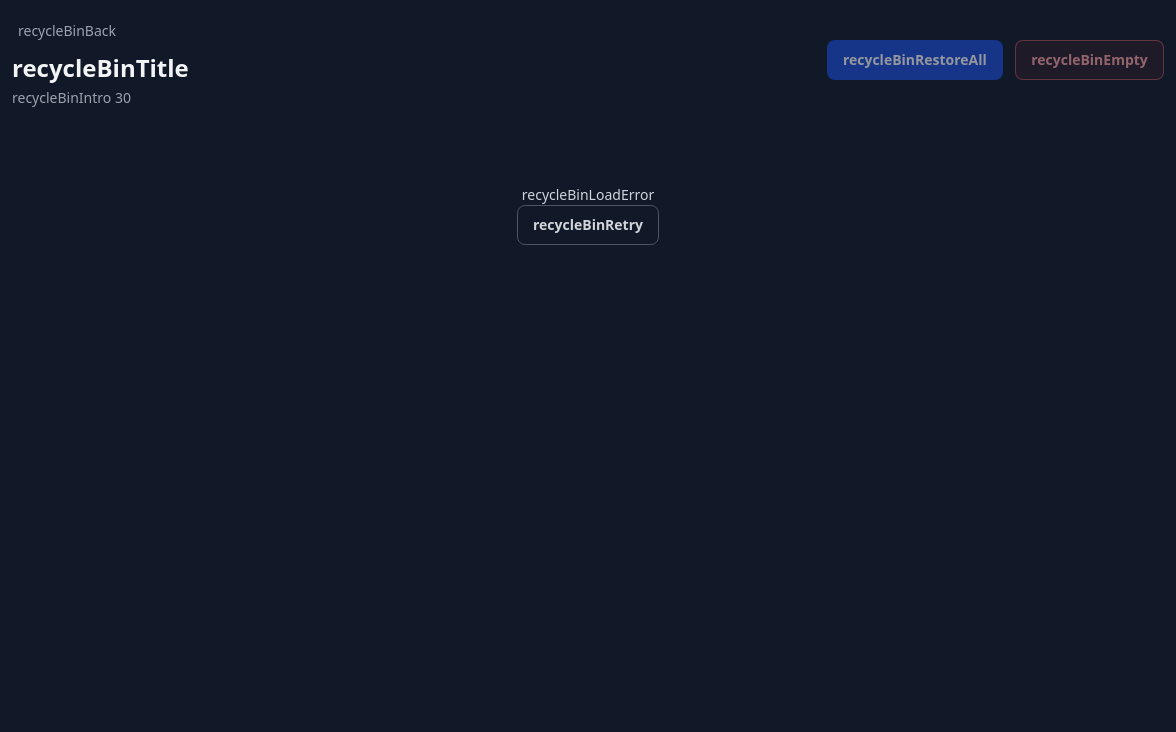
Scenario: RecycleBinPage › offers to try again when the bin cannot be loaded
Click the button "recycleBinRetry" at (588, 224), box x1=517 y1=204 x2=659 y2=244
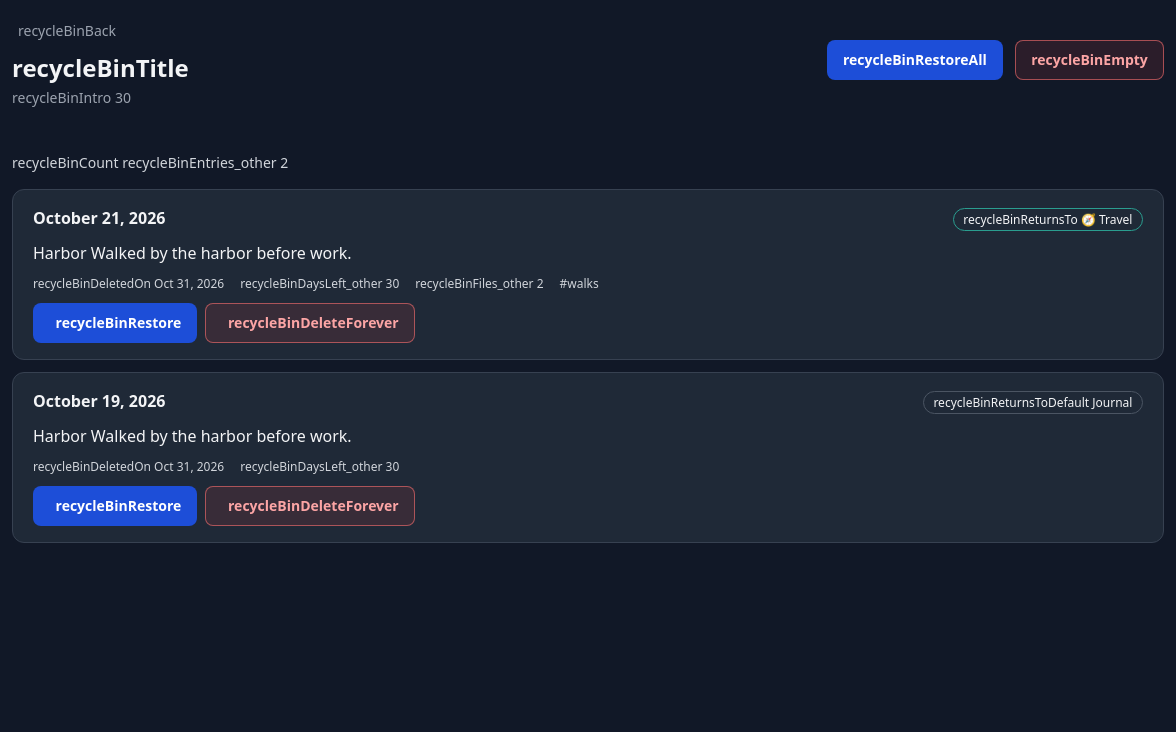
Check: the element "October 21, 2026" is shown, box x1=12 y1=188 x2=1164 y2=360
